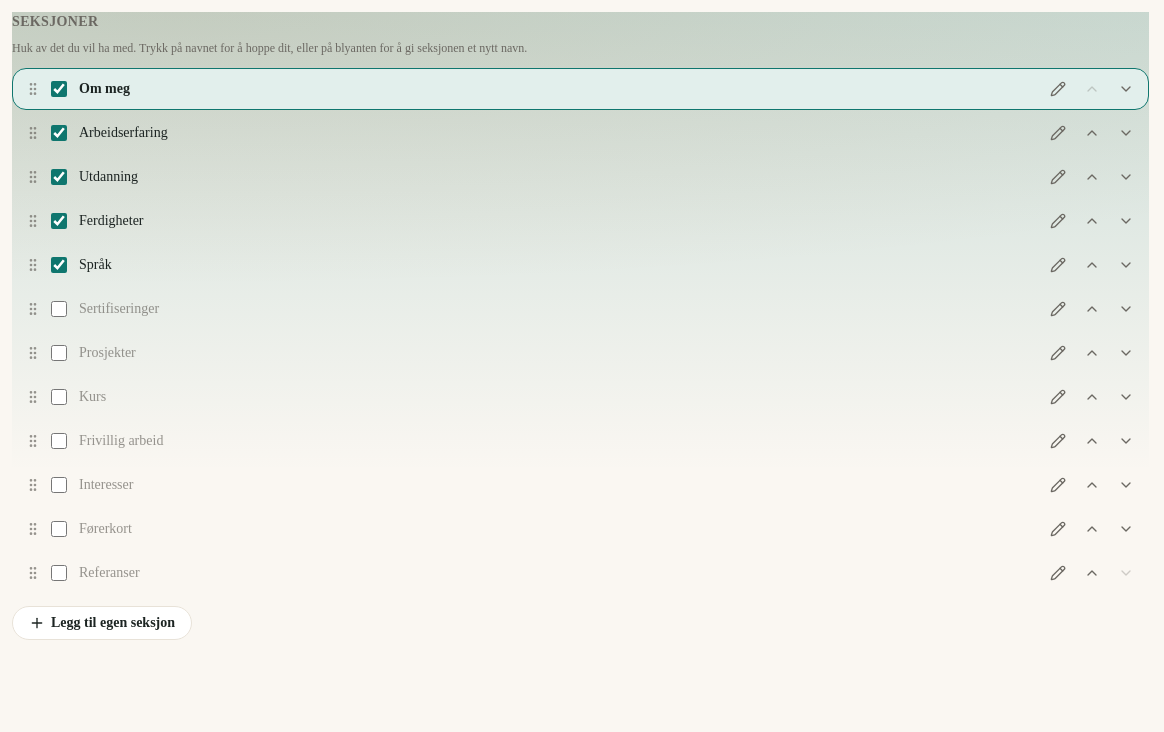
Scenario: renaming from the list › finishes on Enter
Click the button named "Gi nytt navn:" at [1058, 89], box [1044,77,1072,101]
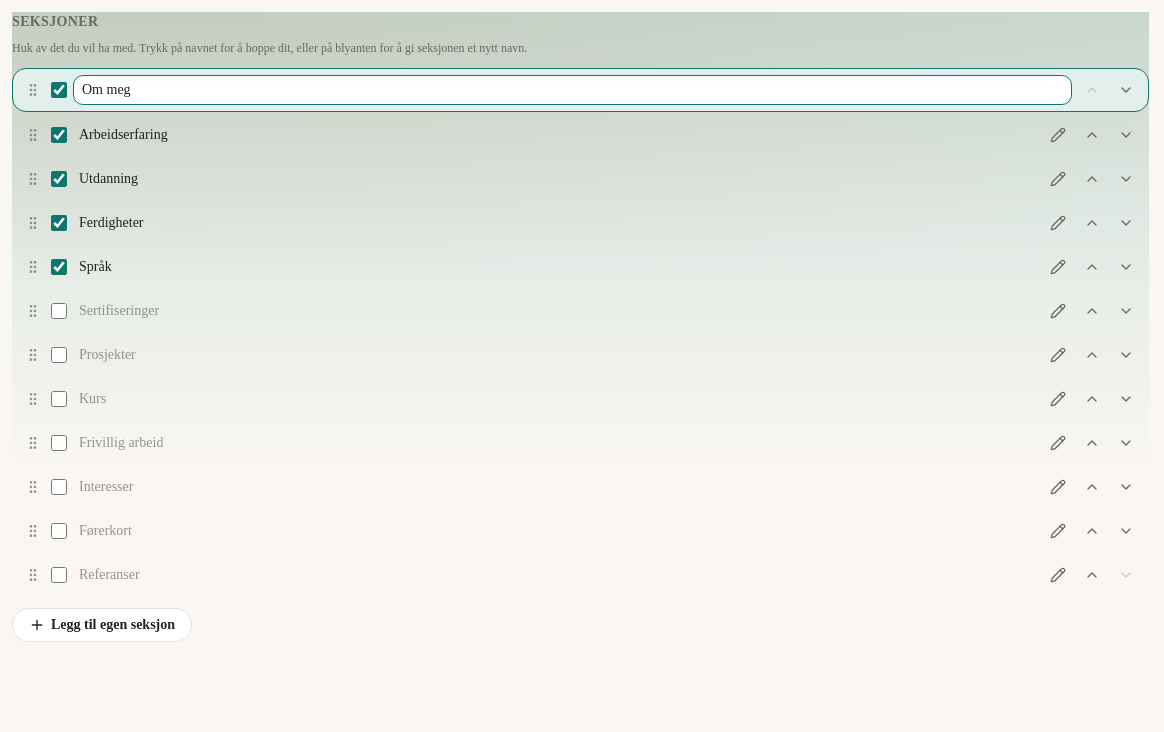
Now the field is shown, box [73,75,1072,105]
Press Enter
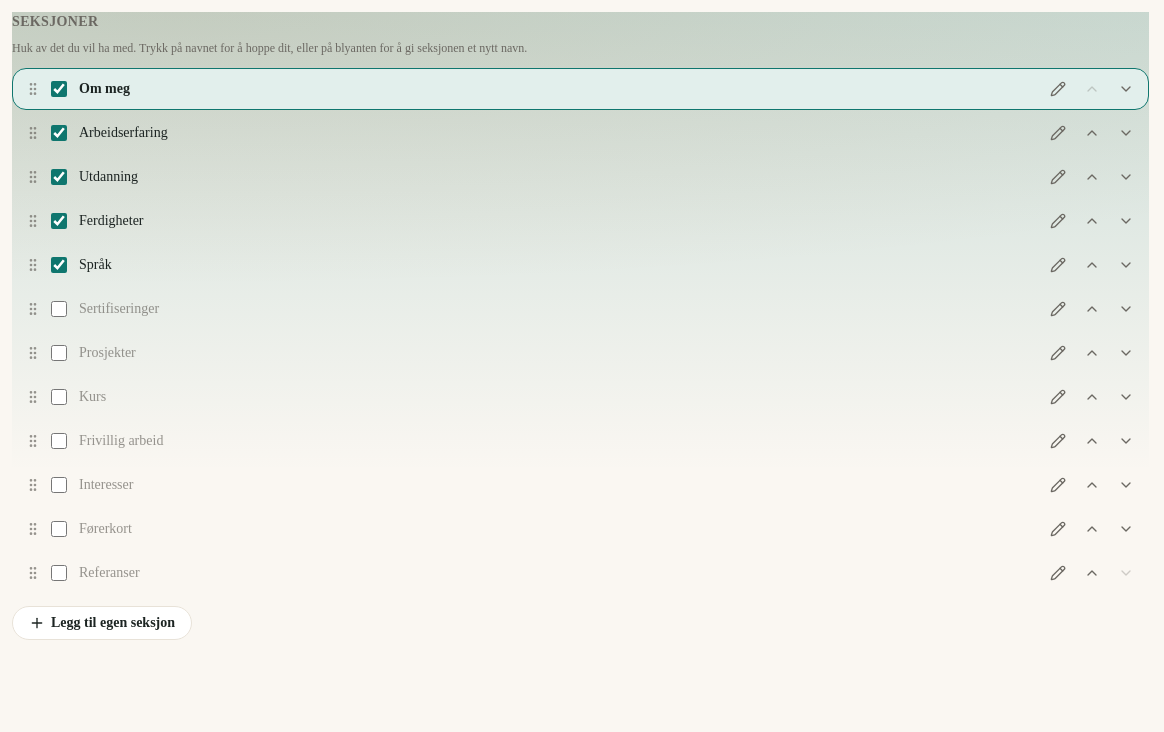
Now the field is gone
